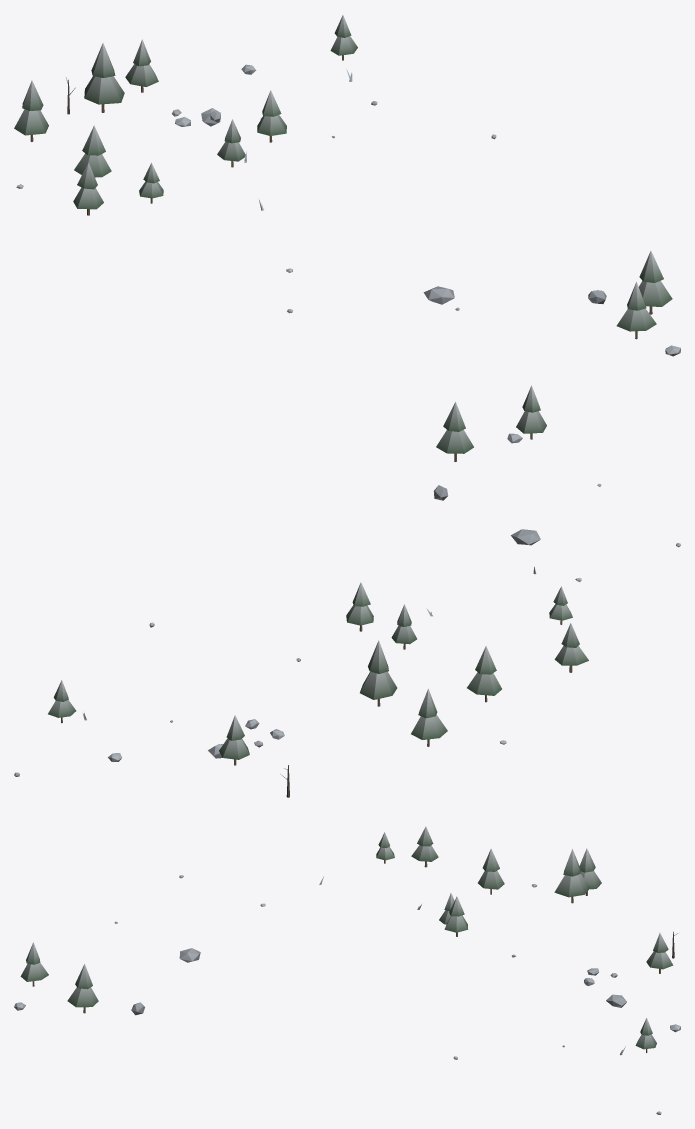
Rendered from frost_land_scatter_c21_12_lod1.glb.
The picture shows the model from 3 angles, top to bottom: view 1: azimuth 30°, elevation 25°; view 2: azimuth 150°, elevation 25°; view 3: azimuth 270°, elevation 25°; orthographic projection. The views are drawn at different scales.
Visible parts, largest first — view 1: frost_land_scatter_c21_12_lod1; view 2: frost_land_scatter_c21_12_lod1; view 3: frost_land_scatter_c21_12_lod1.
Boxes of the visible parts, box(x1,y1,x2,y2) form: frost_land_scatter_c21_12_lod1: box(14, 15, 680, 356); frost_land_scatter_c21_12_lod1: box(14, 385, 680, 797); frost_land_scatter_c21_12_lod1: box(14, 826, 680, 1114).
Size of the model in its own units: 106 by 40.8 by 173.
